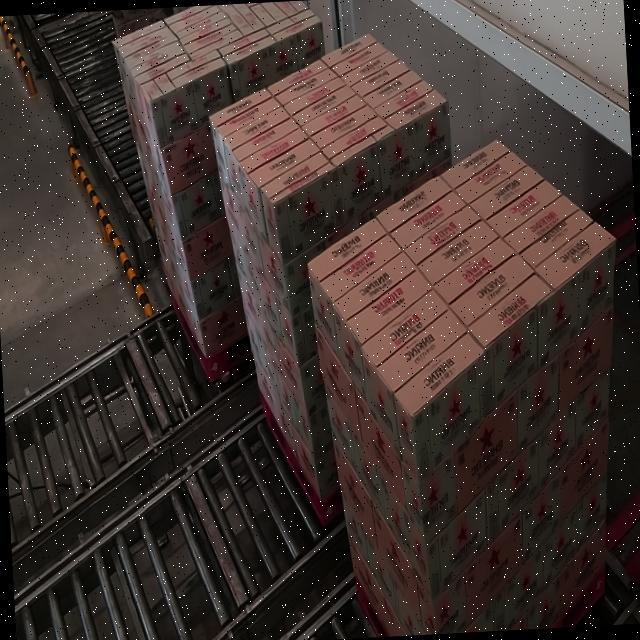pallet: (299, 124, 639, 640), (200, 26, 476, 530), (109, 0, 346, 388)
